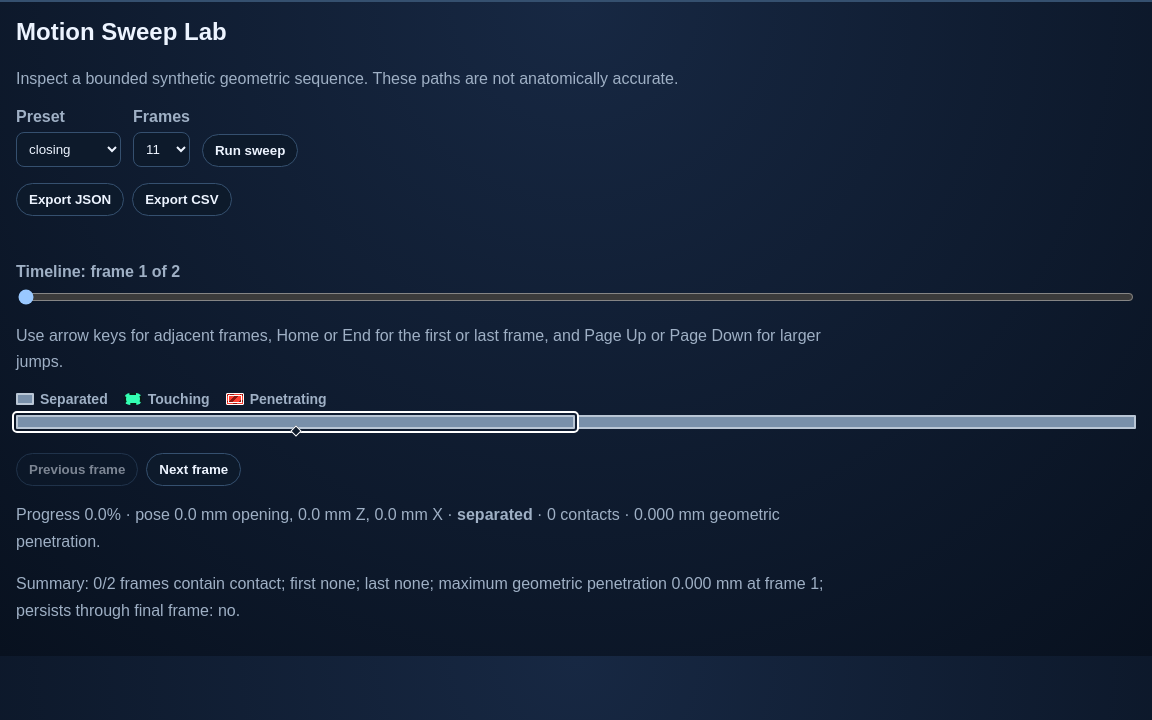
Test: Motion Sweep Lab exports › exports only the completed result and announces success
Click the button with aria-label "as JSON".
click(70, 200)  # box [16,183,124,216]
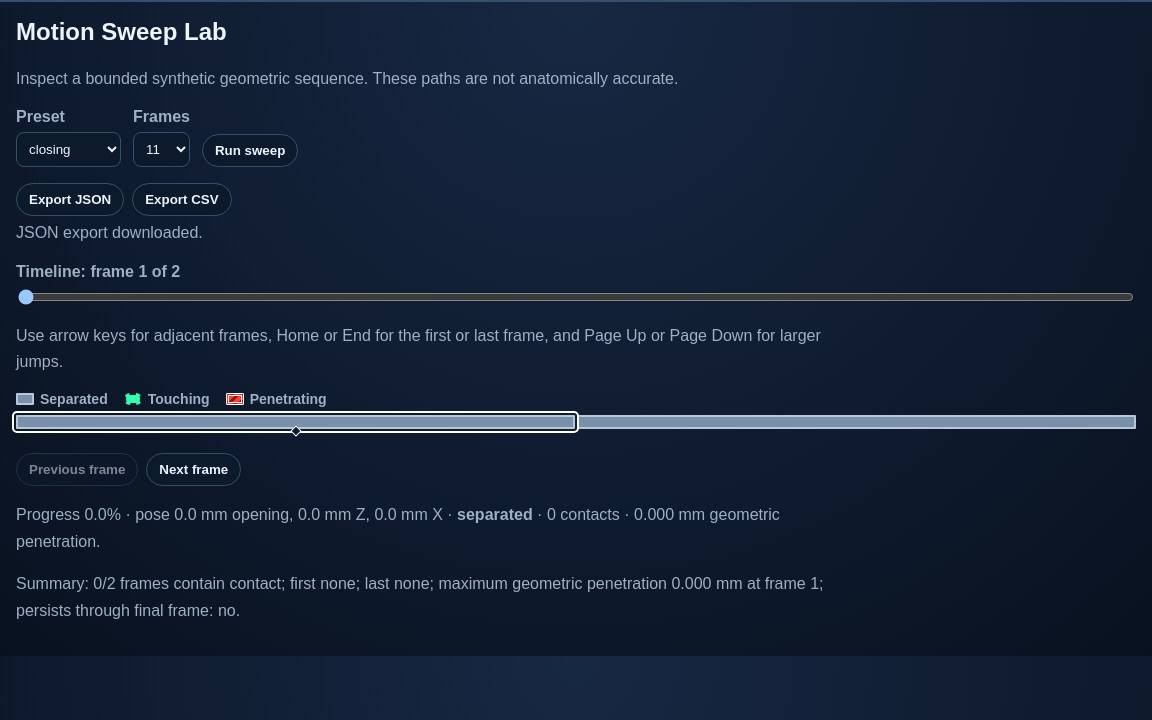
Expected: the text "JSON export downloaded." is shown, [16,224,203,241]
